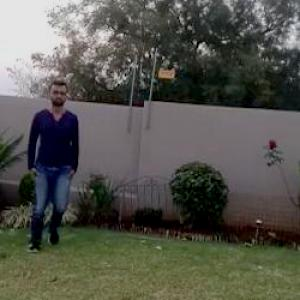follow: (26, 80, 80, 246)
